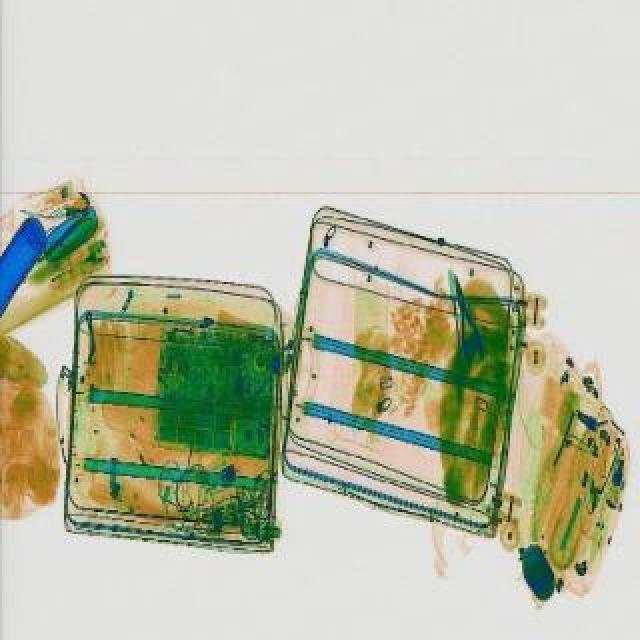wrench: (444, 272, 488, 366)
